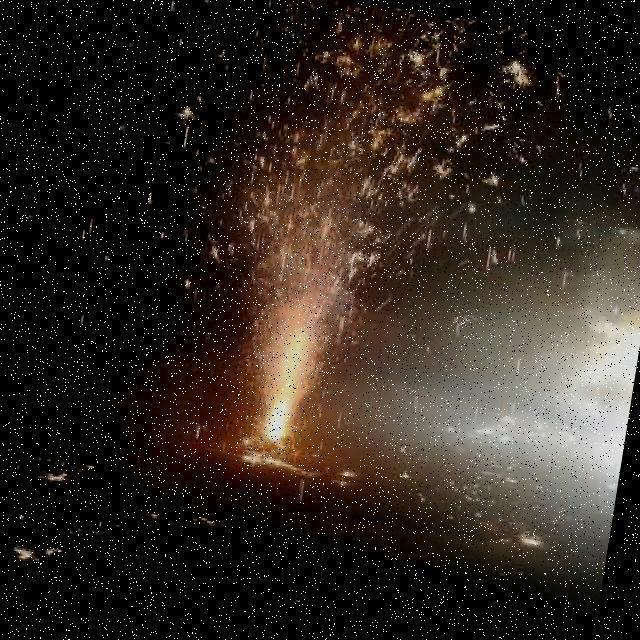Fire: (224, 310, 340, 458)
Smoke: (387, 240, 638, 534), (226, 26, 472, 303)
